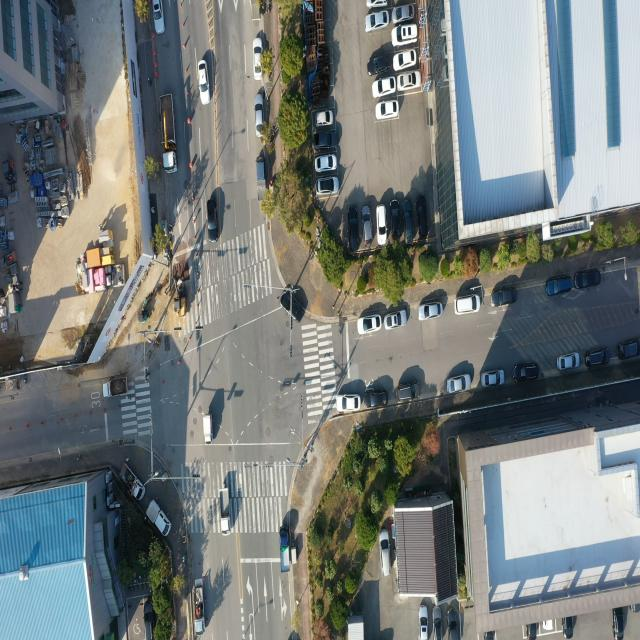car: (543, 273, 572, 299), (280, 289, 302, 321), (366, 51, 392, 78), (617, 333, 640, 362), (379, 532, 393, 578), (584, 344, 611, 367), (402, 196, 414, 247), (389, 195, 402, 242), (364, 384, 387, 410), (206, 197, 219, 240), (396, 379, 420, 402), (416, 194, 428, 239), (575, 270, 601, 290), (377, 99, 400, 121), (373, 78, 396, 100), (364, 10, 388, 31), (490, 288, 516, 307), (199, 60, 210, 104), (394, 51, 417, 72), (454, 294, 479, 313), (348, 207, 359, 250), (152, 0, 165, 36), (418, 303, 442, 322), (447, 375, 471, 394), (514, 362, 539, 380), (393, 26, 418, 44), (399, 70, 420, 90), (358, 315, 380, 334), (314, 176, 336, 195), (384, 311, 406, 330), (252, 40, 262, 81), (446, 603, 457, 640), (314, 132, 336, 150), (558, 352, 580, 370), (432, 604, 443, 640), (337, 394, 360, 411), (392, 4, 412, 23), (483, 369, 505, 386), (254, 94, 263, 134), (315, 156, 336, 173), (378, 206, 388, 241), (361, 207, 371, 242), (316, 109, 333, 127), (420, 607, 429, 640), (368, 0, 389, 8)
medium_truck: (161, 94, 179, 177)
small_truck: (120, 461, 144, 504), (146, 501, 172, 538), (278, 523, 292, 571), (103, 375, 128, 401), (218, 487, 231, 534), (192, 576, 203, 628), (257, 156, 267, 198), (203, 414, 213, 445)
